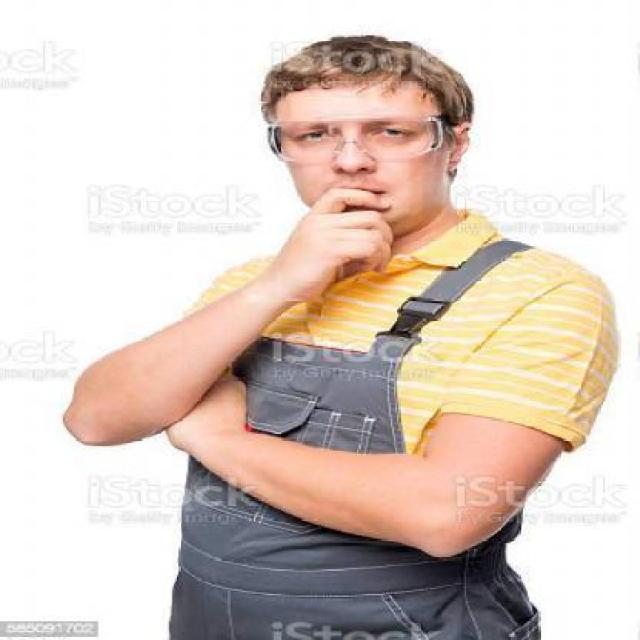glasses: (255, 111, 457, 167)
hand_noglove: (286, 182, 394, 298)
head_nohelmet: (266, 22, 462, 107)
person: (168, 41, 594, 640)
